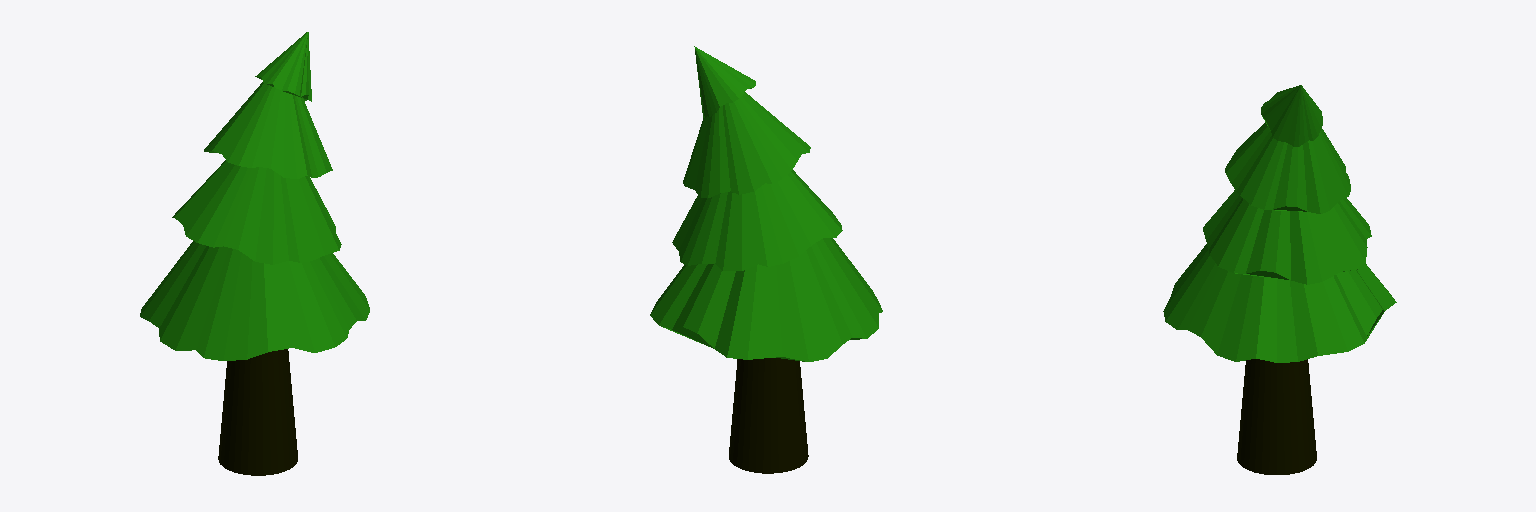
Rendered from tree3.obj.
The picture shows the model from 3 angles: view 1: azimuth 30°, elevation 25°; view 2: azimuth 150°, elevation 25°; view 3: azimuth 270°, elevation 25°; orthographic projection.
Visible parts, largest first — view 1: Cylinder; view 2: Cylinder; view 3: Cylinder.
Boxes of the visible parts, x1=… form: Cylinder: x1=140, y1=32, x2=369, y2=475; Cylinder: x1=650, y1=46, x2=882, y2=473; Cylinder: x1=1163, y1=85, x2=1396, y2=474.
Bounding box in the file's own units: 9.3 × 18.37 × 9.61.